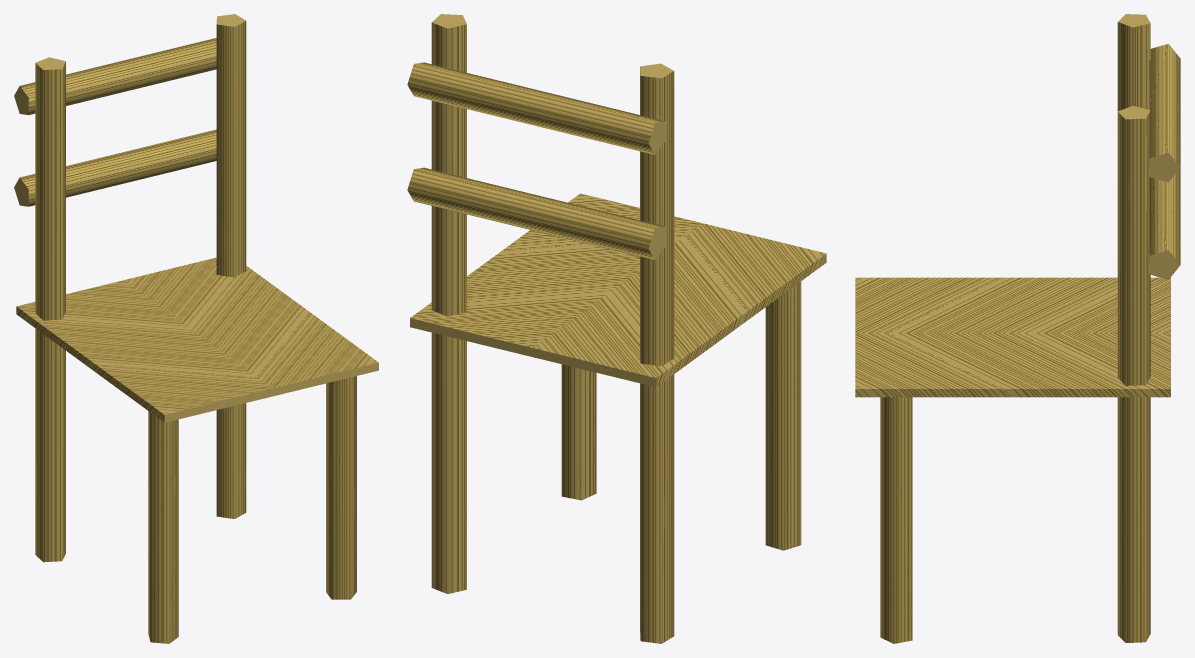
Rendered from SM_ReedChair.glb.
3 renders of one model, left to right at view 1: azimuth 30°, elevation 25°; view 2: azimuth 150°, elevation 25°; view 3: azimuth 270°, elevation 25°, orthographic. The views are drawn at different scales.
Visible parts, largest first — view 1: SM_ReedChair; view 2: SM_ReedChair; view 3: SM_ReedChair.
Part boxes in pixels (<box>): SM_ReedChair: <box>14,14,378,643</box>; SM_ReedChair: <box>407,14,826,643</box>; SM_ReedChair: <box>855,14,1180,643</box>.
Bounding box in the file's own units: 0.4557 × 0.9996 × 0.5624.
Materials: 1 (1 with a texture image).
